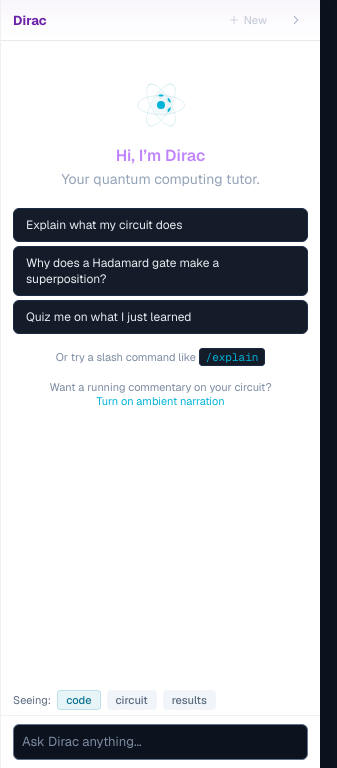
it: DiracSidePanel › escape closes the slash menu without leaving the field
This screenshot has width=337, height=768.
Type "/" into the text box named "Message Dirac". click: (160,742)
box: [13, 724, 308, 760]
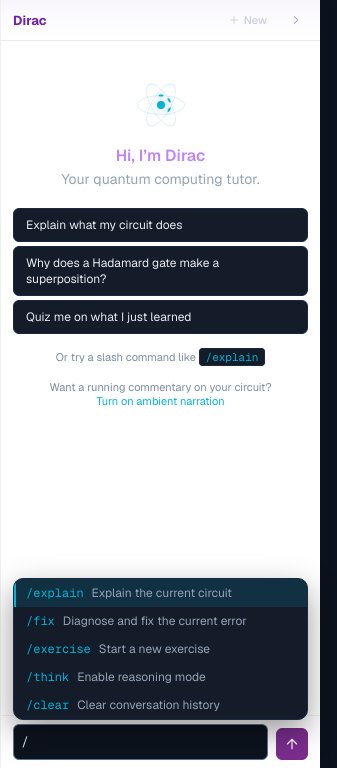
Press Escape in the text box named "Message Dirac", box [13, 724, 268, 760]
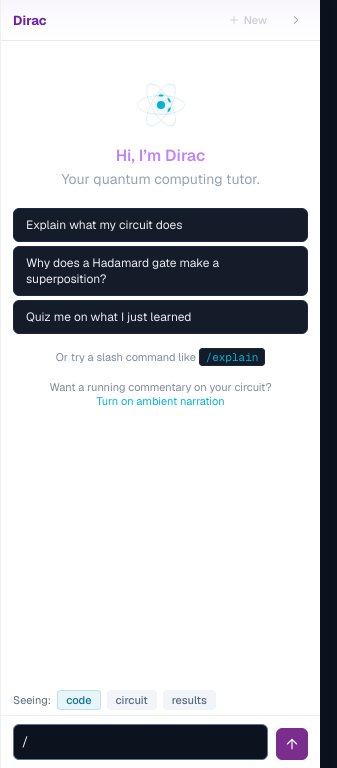
Now the list is gone
